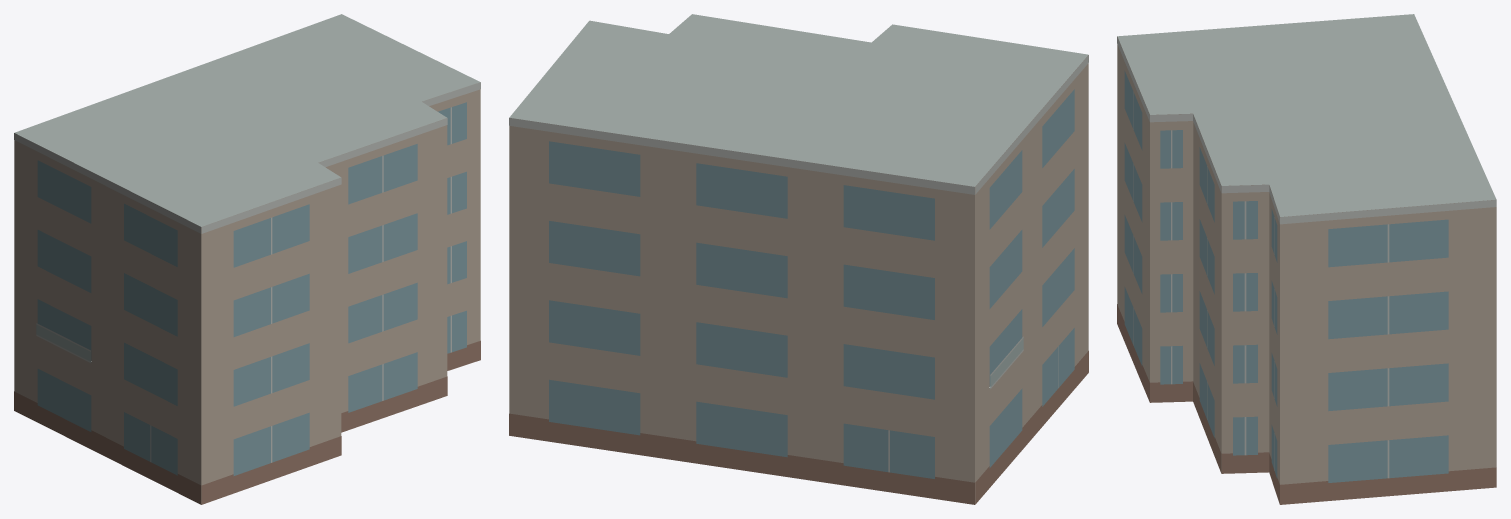
File: survey-upis-32956289.glb
3 views of the same model, side by side, from view 1: azimuth 30°, elevation 25°; view 2: azimuth 150°, elevation 25°; view 3: azimuth 270°, elevation 25° (orthographic). The views are drawn at different scales.
Visible parts, largest first — view 1: survey-upis-32956289.tmp; view 2: survey-upis-32956289.tmp; view 3: survey-upis-32956289.tmp.
Part boxes in pixels (<box>): survey-upis-32956289.tmp: <box>14,14,480,504</box>; survey-upis-32956289.tmp: <box>509,14,1088,504</box>; survey-upis-32956289.tmp: <box>1117,14,1496,504</box>.
Size of the model in its own units: 14.54 by 9.6 by 11.48.
